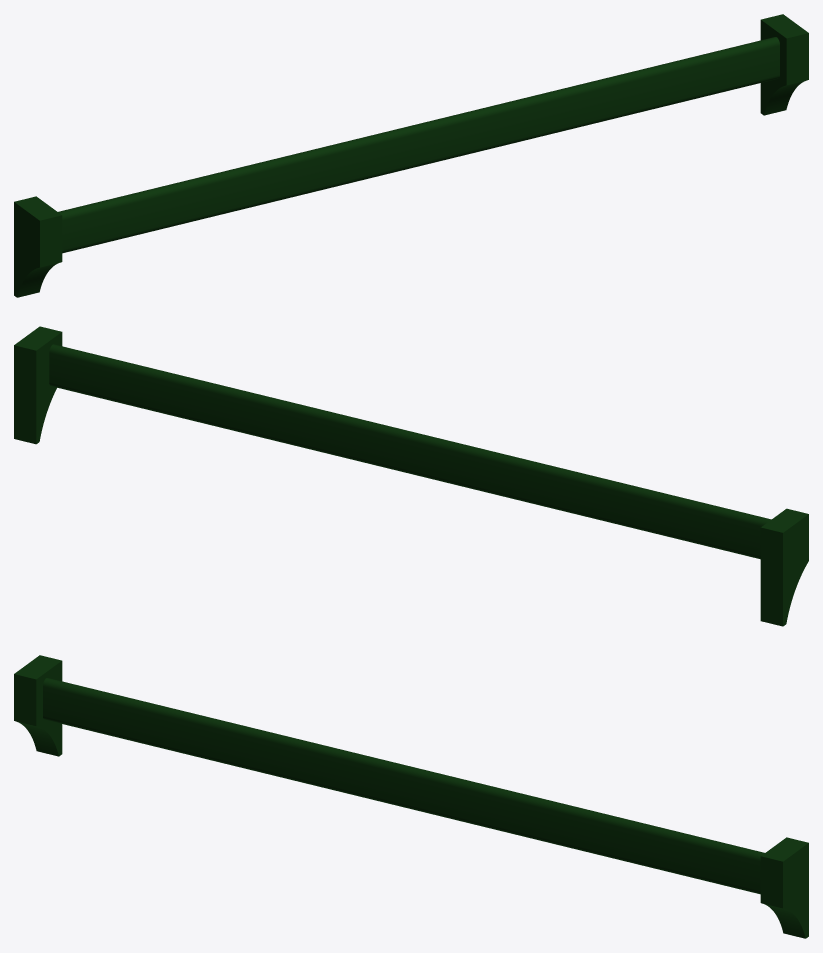
Rendered from original-30.obj.
3 renders of one model, top to bottom at view 1: azimuth 30°, elevation 25°; view 2: azimuth 150°, elevation 25°; view 3: azimuth 330°, elevation 25°, orthographic.
Visible parts, largest first — view 1: mesh175/mesh175-geometry#mesh175-geometry; view 2: mesh175/mesh175-geometry#mesh175-geometry; view 3: mesh175/mesh175-geometry#mesh175-geometry.
Boxes of the visible parts, x1,y1,x2,y2 form: mesh175/mesh175-geometry#mesh175-geometry: (14, 14, 808, 297); mesh175/mesh175-geometry#mesh175-geometry: (14, 326, 808, 626); mesh175/mesh175-geometry#mesh175-geometry: (14, 655, 808, 938).
Bounding box in the file's own units: 0.8877 × 0.1033 × 0.0517.
